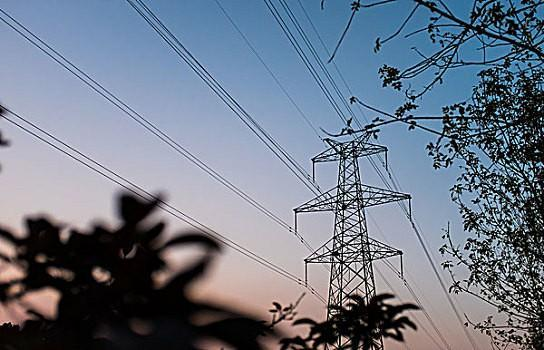power_tower: (292, 121, 415, 350)
